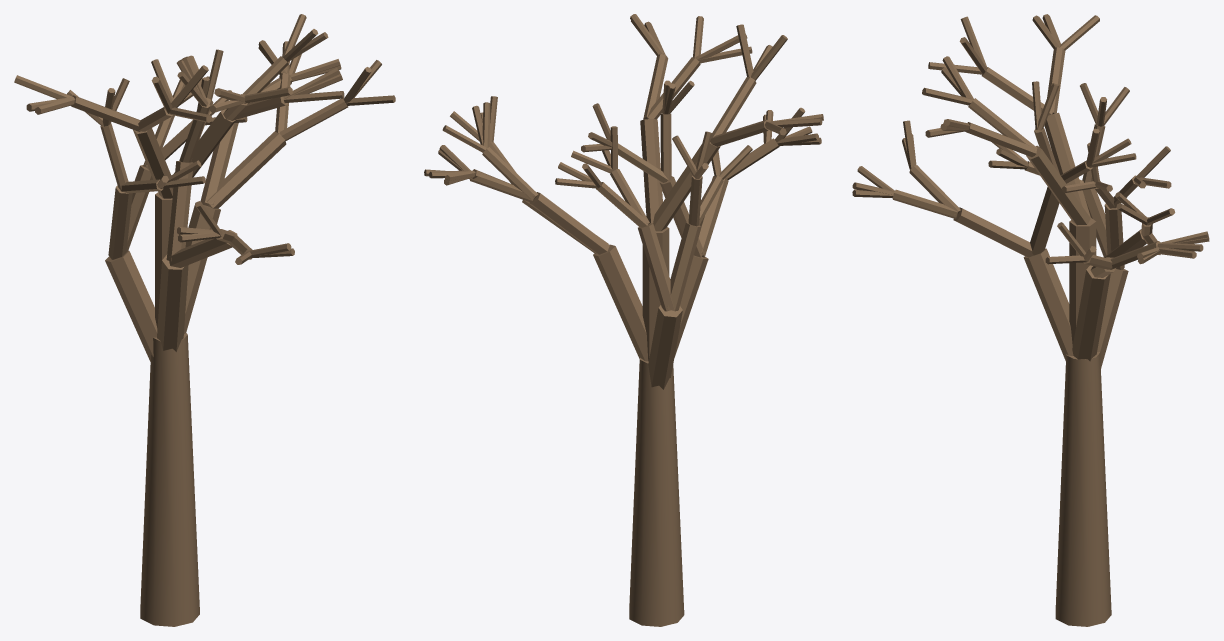
The model's file is arbre_desert_2.glb.
The picture shows the model from 3 angles, left to right: view 1: azimuth 30°, elevation 25°; view 2: azimuth 150°, elevation 25°; view 3: azimuth 270°, elevation 25°; orthographic projection. The views are drawn at different scales.
Parts seen in each view (by area): view 1: branches_bois_sec.004, tronc.012; view 2: branches_bois_sec.004, tronc.012; view 3: branches_bois_sec.004, tronc.012.
Part boxes in pixels (x1=…): branches_bois_sec.004: x1=14, y1=14, x2=395, y2=361; tronc.012: x1=140, y1=333, x2=199, y2=626; branches_bois_sec.004: x1=424, y1=14, x2=823, y2=389; tronc.012: x1=629, y1=358, x2=684, y2=626; branches_bois_sec.004: x1=852, y1=14, x2=1209, y2=368; tronc.012: x1=1055, y1=352, x2=1111, y2=626.
Bounding box in the file's own units: 2.12 × 3.23 × 1.85.
